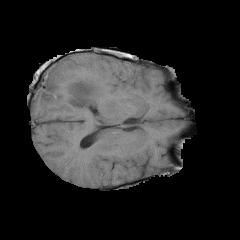glioma: (31, 59, 107, 125)
